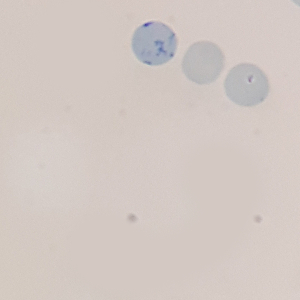aggregate reticulocyte: (130, 20, 180, 67)
erythrocyte: (180, 40, 227, 87)
punctate reticulocyte: (222, 61, 272, 109)
